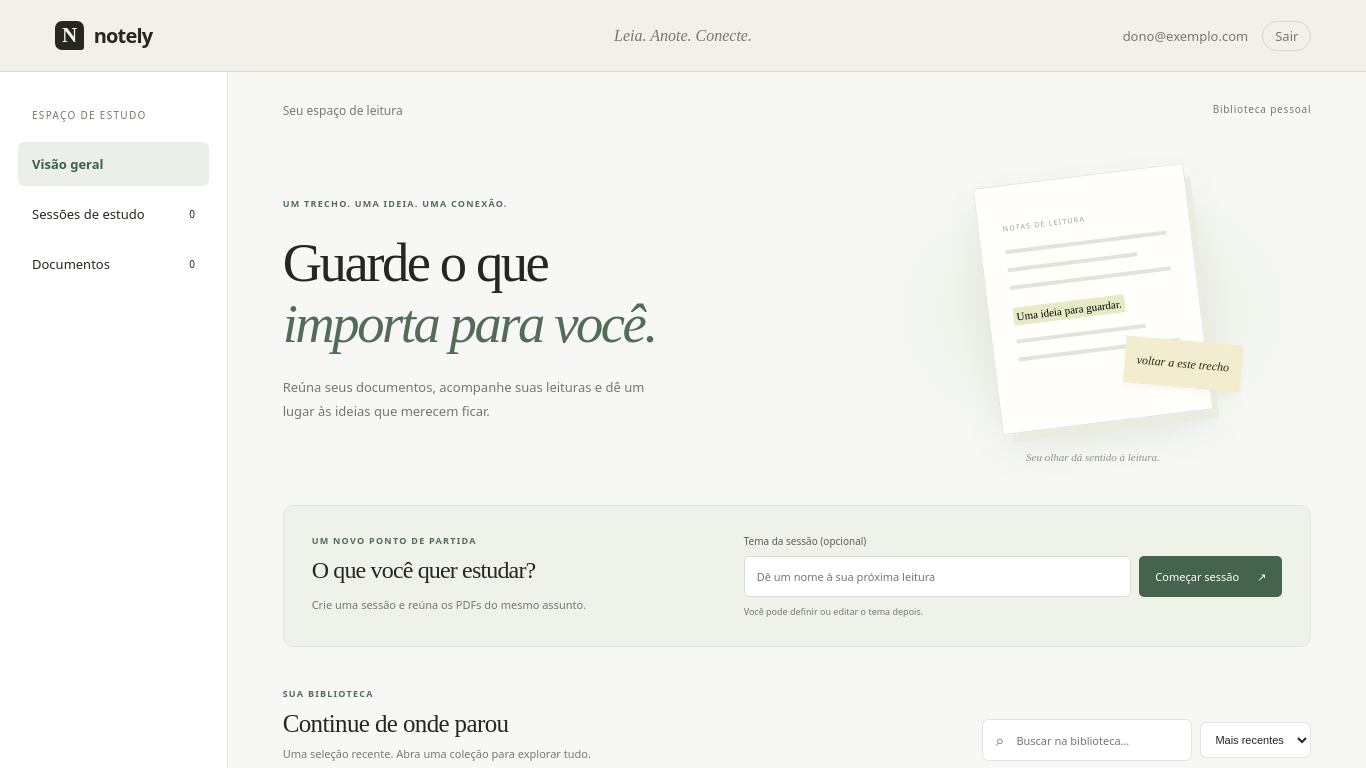
App › starts a study session with the theme the user wrote
Step 1. Type "IFRS e recuperação" into the field labelled "Tema da sessão (opcional)" → [938, 576], box [744,556,1131,597]
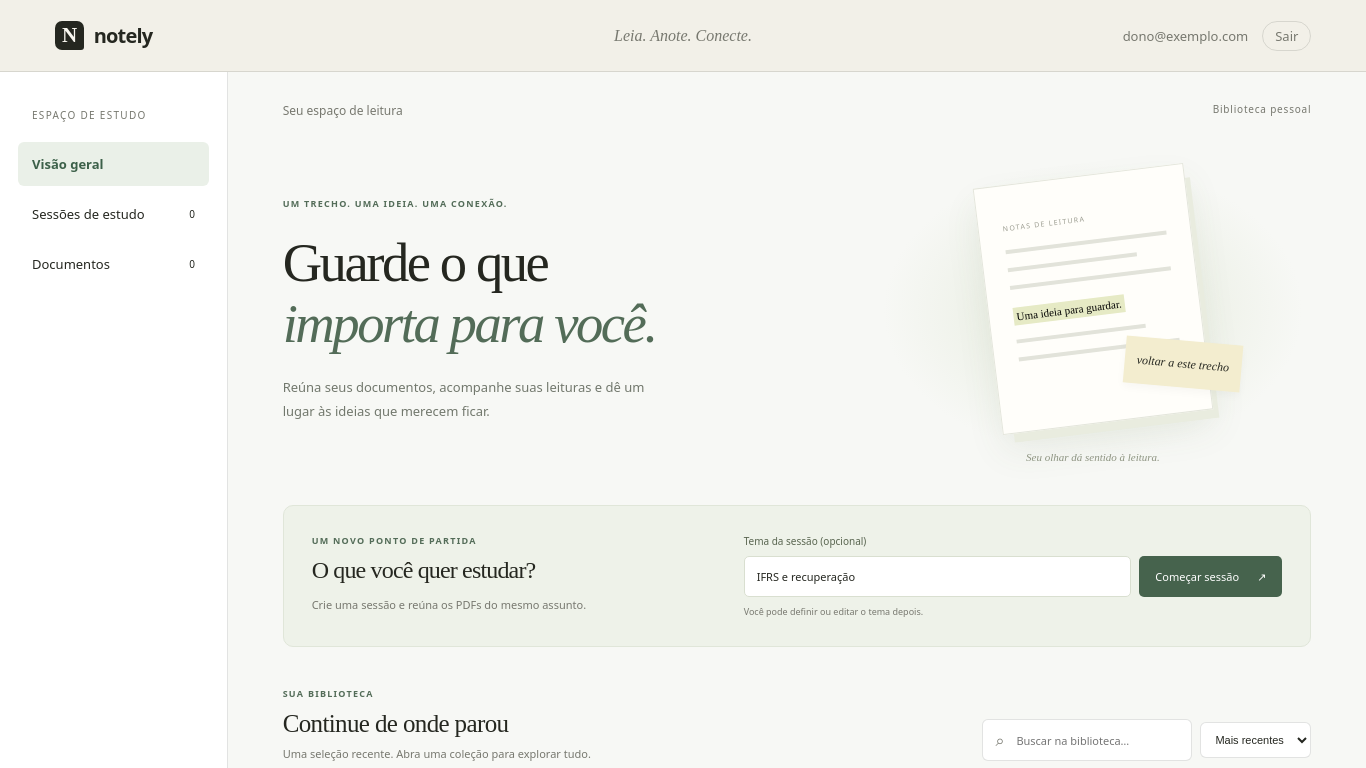
Step 2. Click the button "Começar sessão ↗" → [1211, 576], box [1139,556,1282,597]
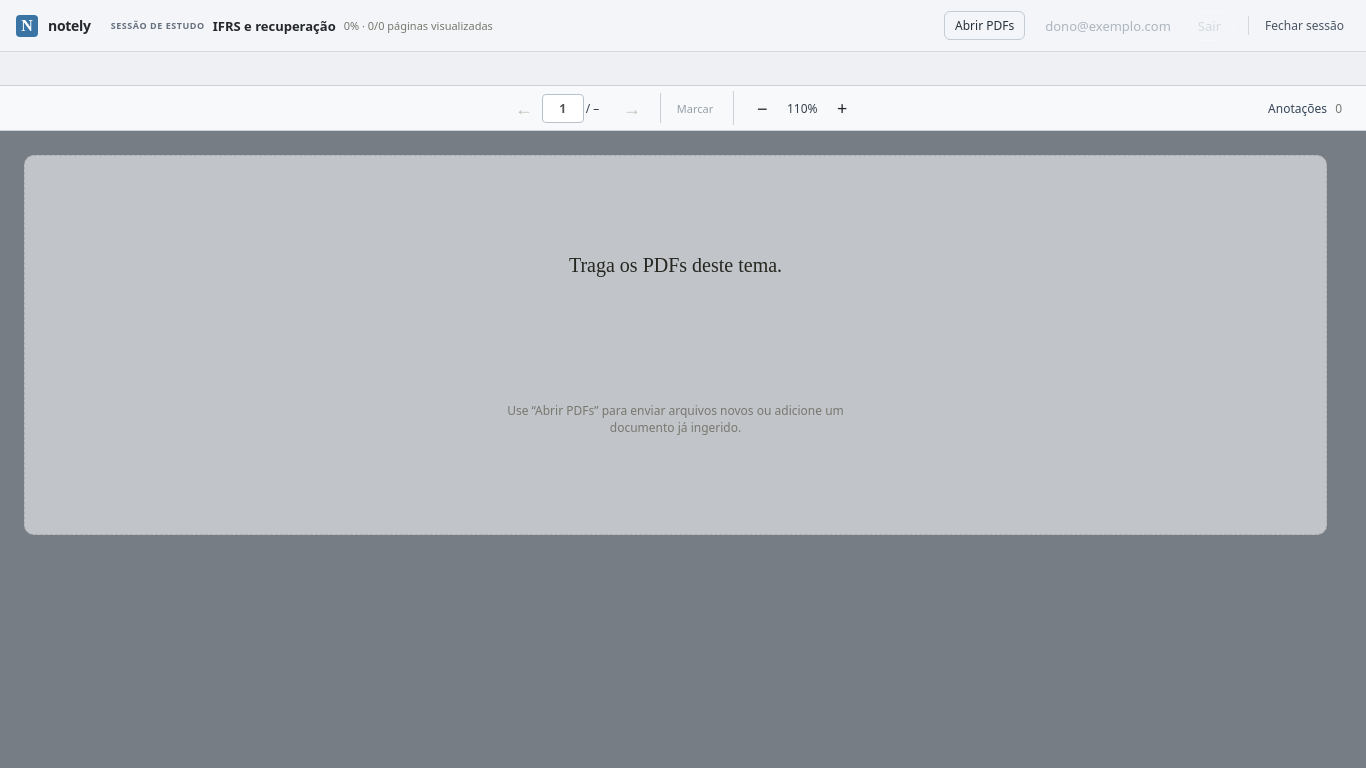
Expected: the text "Sessão de estudo" is shown, [111,19,205,32]
Step 3. Click the button "Anotações 0" → [1305, 108], box [1258,91,1352,125]
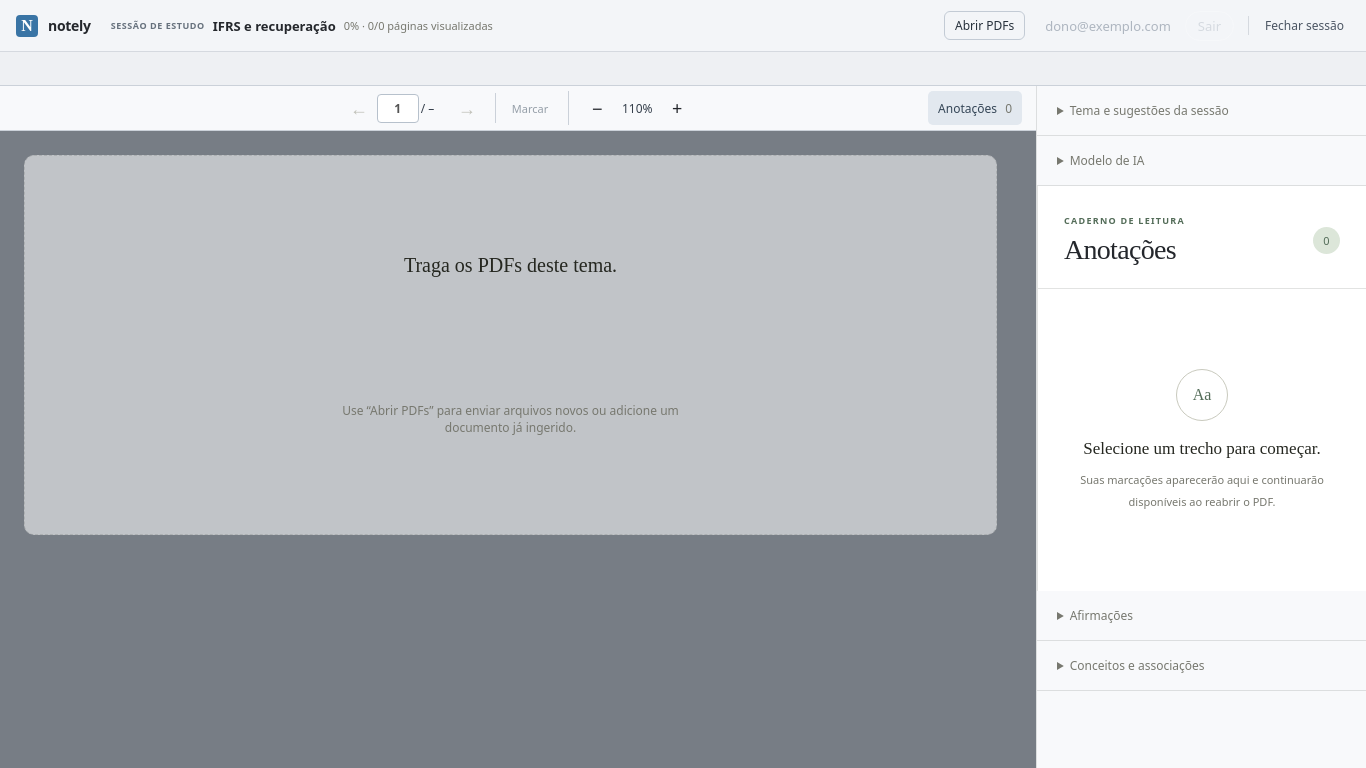
Step 4. Click the heading "Tema e sugestões da sessão" → [1149, 110], box [1070,102,1229,119]
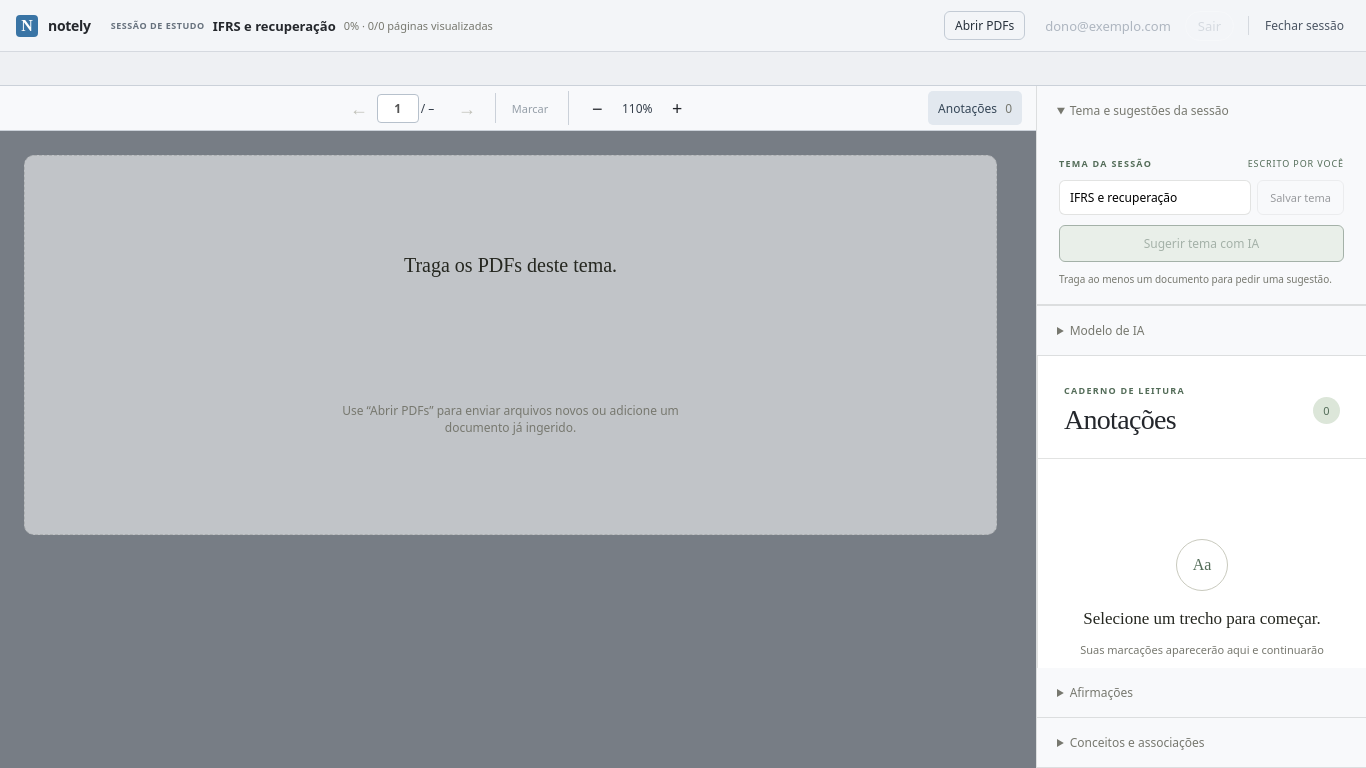
Expected: the text "IFRS e recuperação" is shown, [213,16,336,34]
Expected: the text "Traga os PDFs deste tema." is shown, [404,254,617,277]
Expected: the text "escrito por você" is shown, [1248,157,1344,170]
